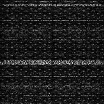lte: (1, 59, 104, 65), (1, 3, 104, 6)
